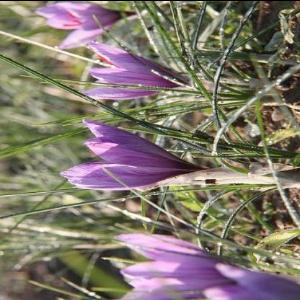Saffron: (58, 118, 204, 190), (114, 229, 256, 300), (72, 40, 190, 101), (38, 0, 132, 51)
